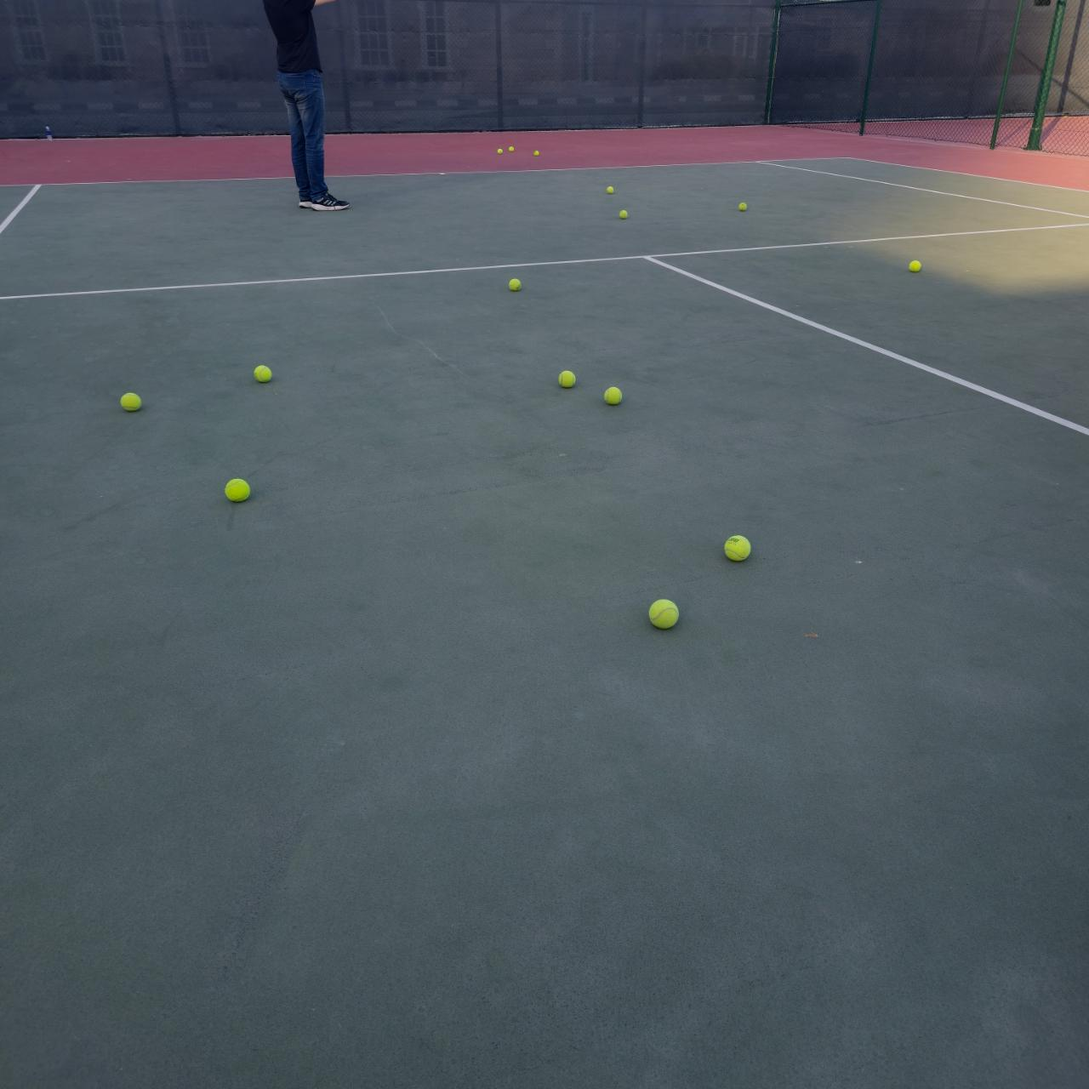tennis-ball: (648, 596, 681, 630), (724, 532, 753, 562), (225, 476, 252, 502), (121, 390, 143, 411), (254, 362, 274, 383), (604, 385, 624, 406), (559, 368, 578, 388), (508, 278, 522, 291), (909, 260, 922, 273), (738, 202, 747, 212), (619, 210, 628, 220), (607, 186, 614, 194), (497, 148, 503, 154), (534, 150, 539, 156), (509, 147, 514, 152)
